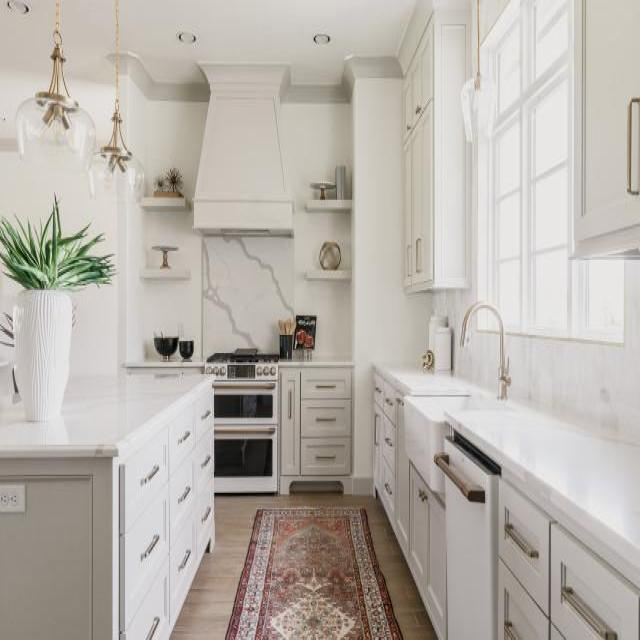dishwasher: (432, 416, 503, 640)
